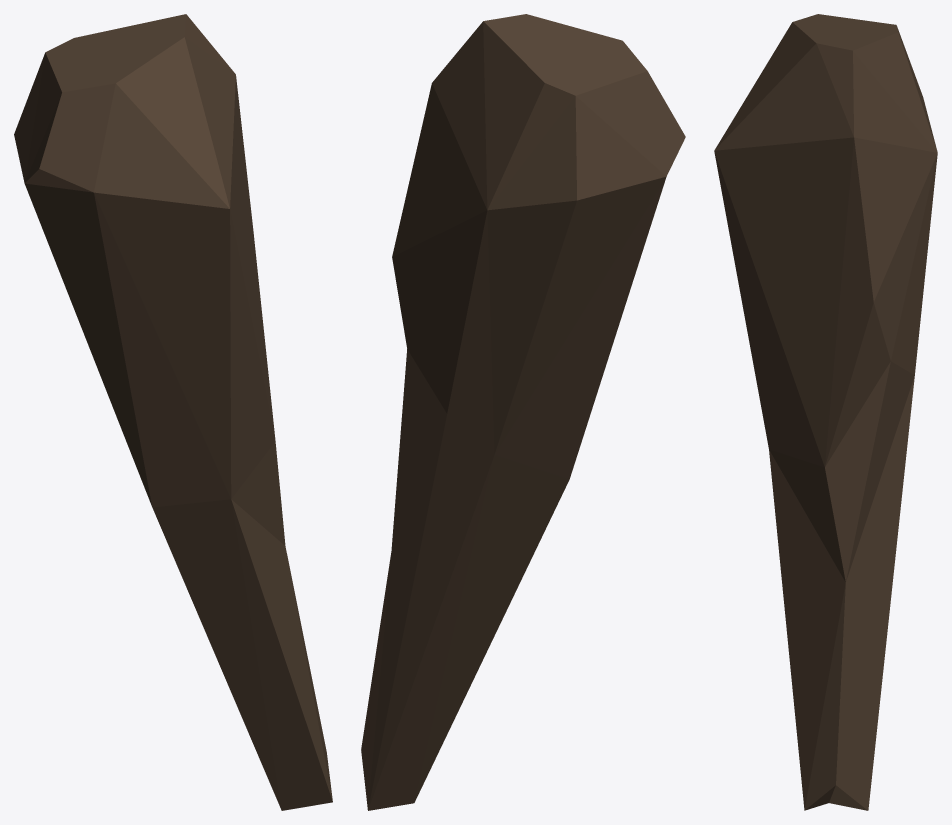
The model's file is Torch.fbx.
The picture shows the model from 3 angles, left to right: view 1: azimuth 30°, elevation 25°; view 2: azimuth 150°, elevation 25°; view 3: azimuth 270°, elevation 25°; orthographic projection. The views are drawn at different scales.
Visible parts, largest first — view 1: Torch; view 2: Torch; view 3: Torch.
Part boxes in pixels (left/top/right/bottom): Torch: left=14, top=14, right=332, bottom=810; Torch: left=361, top=14, right=685, bottom=810; Torch: left=714, top=14, right=937, bottom=810.
Size of the model in its own units: 70.25 by 178 by 50.19.
